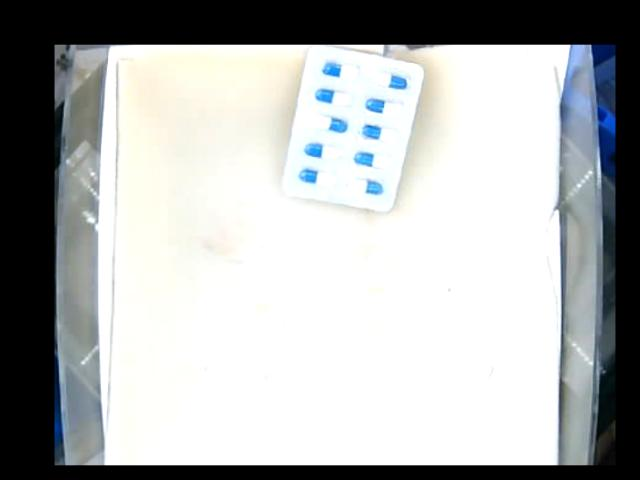Medicine: (284, 45, 420, 218)
